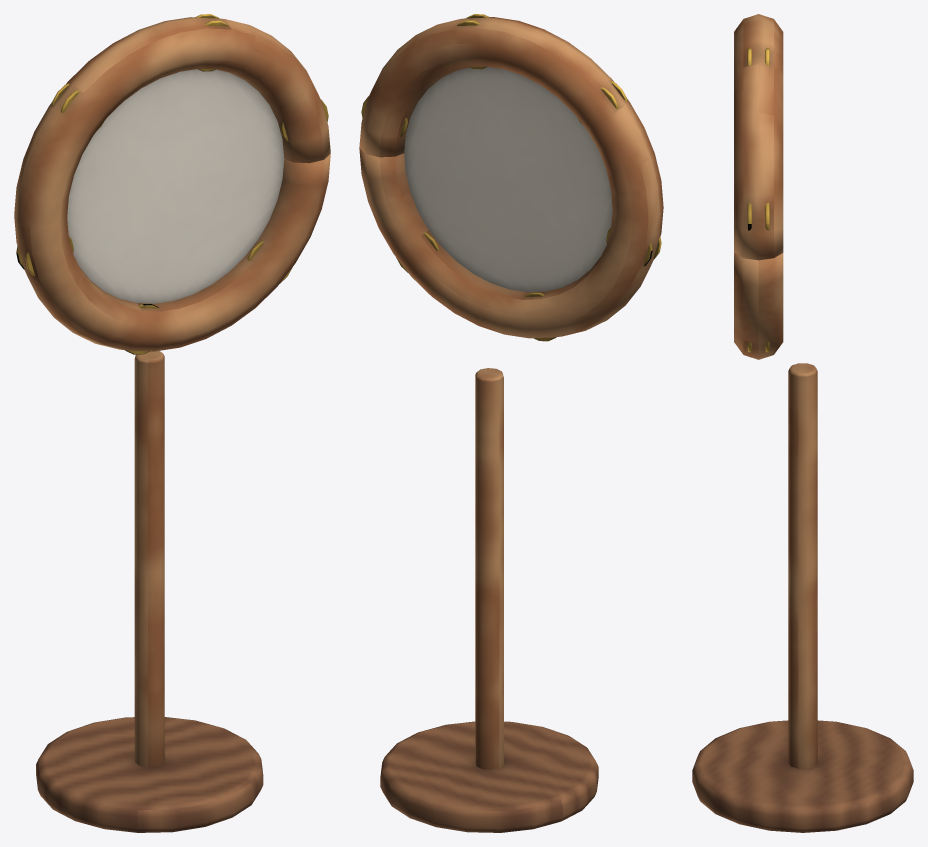
The model's file is Tambourine.fbx.
3 renders of one model, left to right at view 1: azimuth 30°, elevation 25°; view 2: azimuth 150°, elevation 25°; view 3: azimuth 270°, elevation 25°, orthographic. The views are drawn at different scales.
Visible parts, largest first — view 1: Pad_54_Mesh, Tambourine_Body; view 2: Pad_54_Mesh, Tambourine_Body; view 3: Tambourine_Body, Pad_54_Mesh.
Boxes of the visible parts, box(x1,y1,x2,y2) form: Pad_54_Mesh: box(14, 14, 330, 354); Tambourine_Body: box(36, 351, 263, 832); Pad_54_Mesh: box(359, 14, 663, 341); Tambourine_Body: box(380, 368, 598, 832); Tambourine_Body: box(692, 363, 913, 832); Pad_54_Mesh: box(734, 14, 783, 359).
Bounding box in the file's own units: 0.47 × 1.13 × 0.3.
